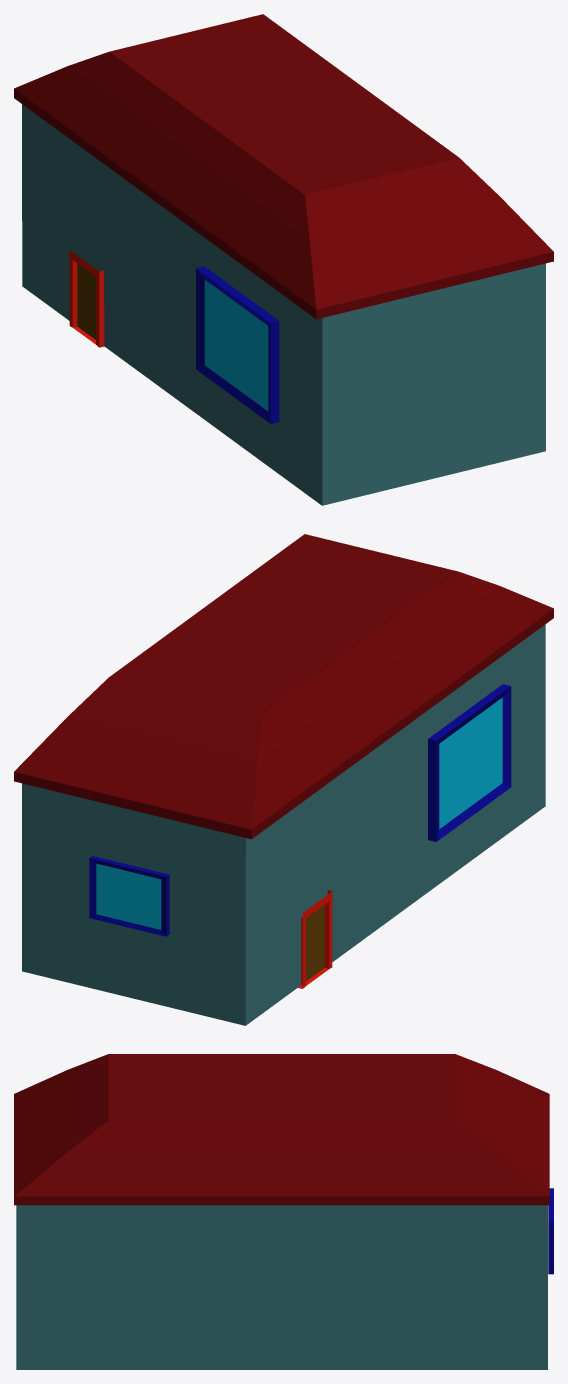
File: lab.fbx
The picture shows the model from 3 angles, top to bottom: view 1: azimuth 30°, elevation 25°; view 2: azimuth 150°, elevation 25°; view 3: azimuth 270°, elevation 25°; orthographic projection. The views are drawn at different scales.
Parts seen in each view (by area): view 1: Cube, Cube.001, Cube.002; view 2: Cube.001, Cube, Cube.002; view 3: Cube, Cube.001, Cube.002.
Boxes of the visible parts, left/top/right/bottom form: Cube: left=22, top=104, right=545, bottom=505; Cube.001: left=14, top=14, right=553, bottom=319; Cube.002: left=196, top=266, right=279, bottom=423; Cube.001: left=14, top=534, right=553, bottom=839; Cube: left=22, top=624, right=545, bottom=1025; Cube.002: left=89, top=684, right=511, bottom=936; Cube: left=16, top=1205, right=547, bottom=1369; Cube.001: left=14, top=1054, right=549, bottom=1205; Cube.002: left=548, top=1188, right=553, bottom=1274.
Bounding box in the file's own units: 354 × 374 × 782.
